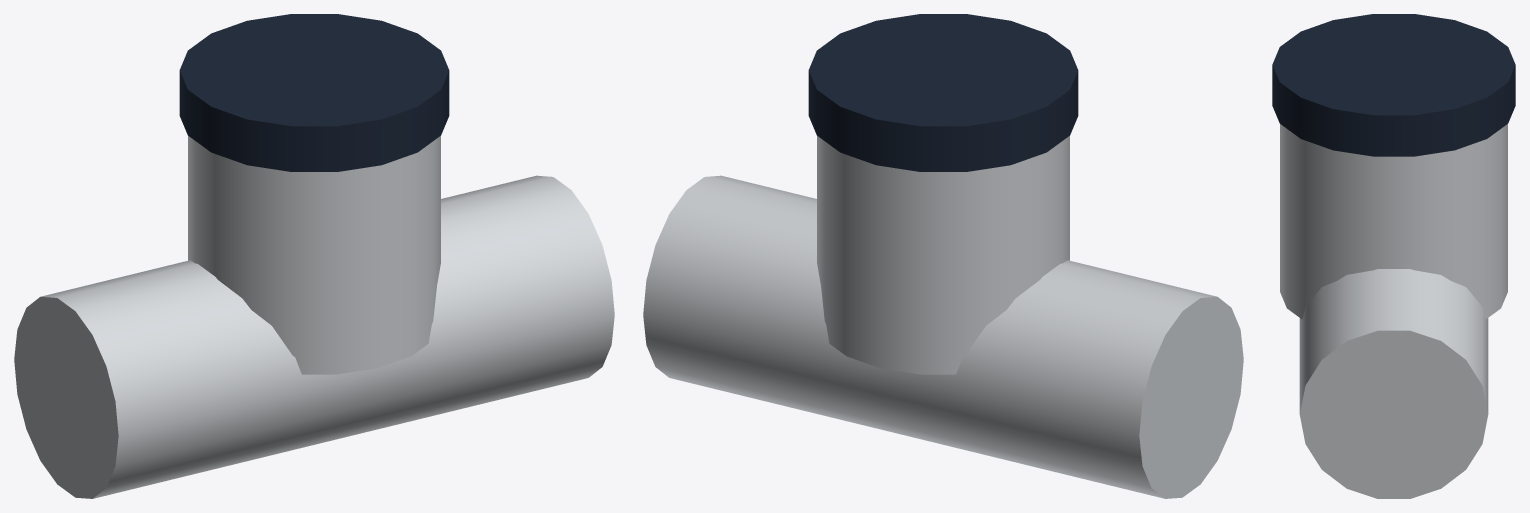
The model's file is mainline-backwater-valve.glb.
3 views of the same model, side by side, from view 1: azimuth 30°, elevation 25°; view 2: azimuth 150°, elevation 25°; view 3: azimuth 270°, elevation 25° (orthographic). The views are drawn at different scales.
Parts seen in each view (by area): view 1: plumbing-equipment-backwater-valve; view 2: plumbing-equipment-backwater-valve; view 3: plumbing-equipment-backwater-valve.
Part boxes in pixels (left/top/right/bottom): plumbing-equipment-backwater-valve: left=14, top=14, right=614, bottom=498; plumbing-equipment-backwater-valve: left=643, top=14, right=1243, bottom=498; plumbing-equipment-backwater-valve: left=1272, top=14, right=1515, bottom=498.
Size of the model in its own units: 0.34 by 0.2361 by 0.16.
